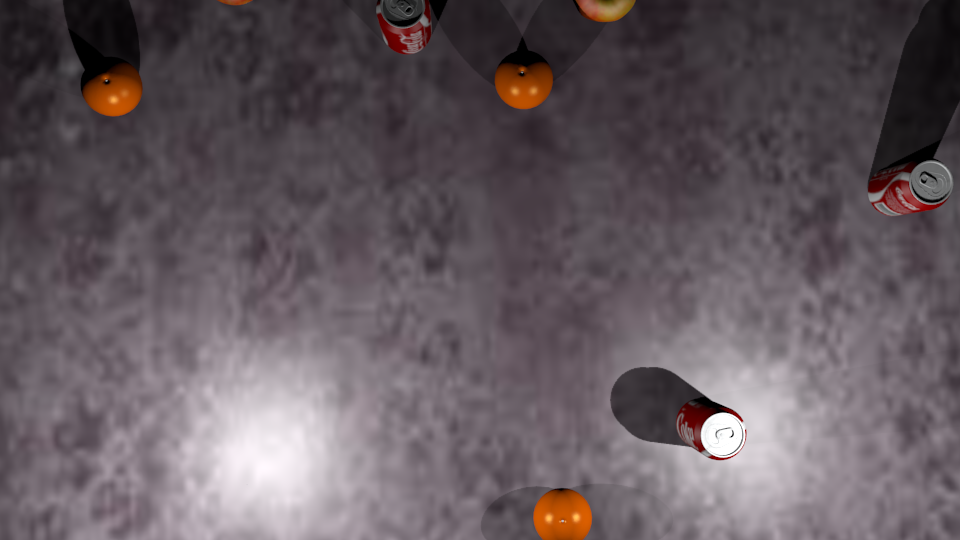apple: (527, 156, 601, 220), (372, 224, 452, 279), (563, 193, 626, 235), (574, 1, 636, 22), (218, 1, 253, 6)
banana: (558, 317, 783, 426), (1, 263, 221, 366), (1, 461, 199, 536), (1, 1, 103, 145), (187, 223, 387, 291), (1, 514, 12, 540)
cola_can: (869, 161, 954, 217), (677, 404, 747, 461), (377, 1, 432, 55)
orange: (798, 434, 949, 540), (632, 22, 703, 84), (534, 491, 593, 540), (736, 57, 789, 107), (85, 75, 143, 117), (496, 68, 553, 110)
